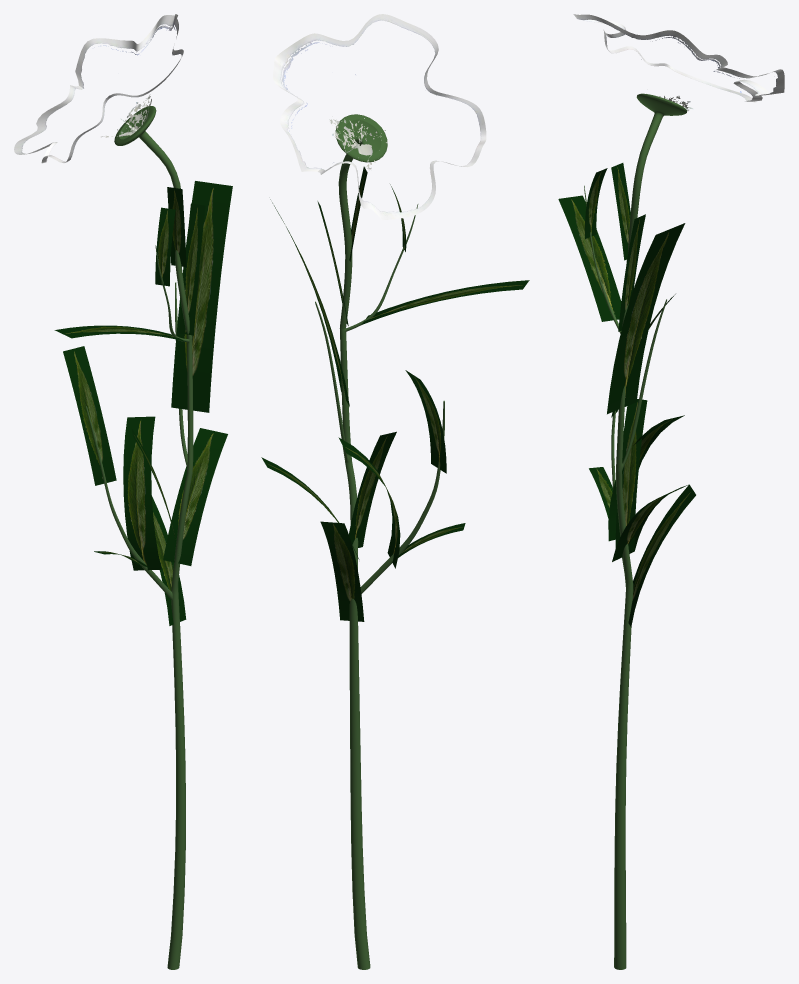
The model's file is daisy_single_5.fbx.
3 renders of one model, left to right at view 1: azimuth 30°, elevation 25°; view 2: azimuth 150°, elevation 25°; view 3: azimuth 270°, elevation 25°, orthographic. The views are drawn at different scales.
Visible parts, largest first — view 1: daisy_single_5_leaf, daisy_single_5_stem, daisy_sinlge_5_petal; view 2: daisy_single_5_stem, daisy_single_5_leaf, daisy_sinlge_5_petal; view 3: daisy_single_5_leaf, daisy_single_5_stem, daisy_sinlge_5_petal.
Boxes of the visible parts, x1=… form: daisy_single_5_leaf: x1=54, y1=181, x2=232, y2=625; daisy_single_5_stem: x1=86, y1=106, x2=193, y2=969; daisy_sinlge_5_petal: x1=14, y1=14, x2=183, y2=163; daisy_single_5_stem: x1=315, y1=114, x2=444, y2=969; daisy_single_5_leaf: x1=261, y1=166, x2=529, y2=621; daisy_sinlge_5_petal: x1=273, y1=14, x2=486, y2=220; daisy_single_5_leaf: x1=558, y1=163, x2=695, y2=626; daisy_single_5_stem: x1=584, y1=93, x2=686, y2=969; daisy_sinlge_5_petal: x1=573, y1=14, x2=784, y2=111.
Size of the model in its own units: 5.44 by 22.39 by 4.83.
3 materials, 2 textured.
